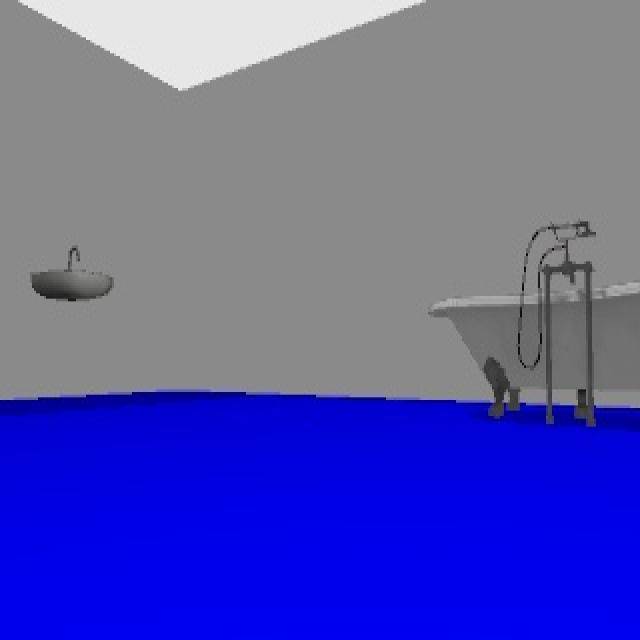bathtub: (428, 221, 638, 421)
